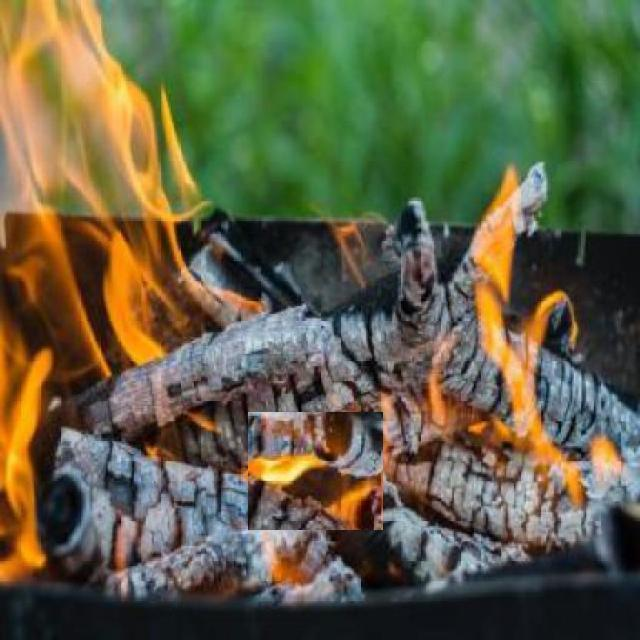fire: (0, 0, 219, 583), (458, 166, 622, 497), (244, 449, 381, 535)
